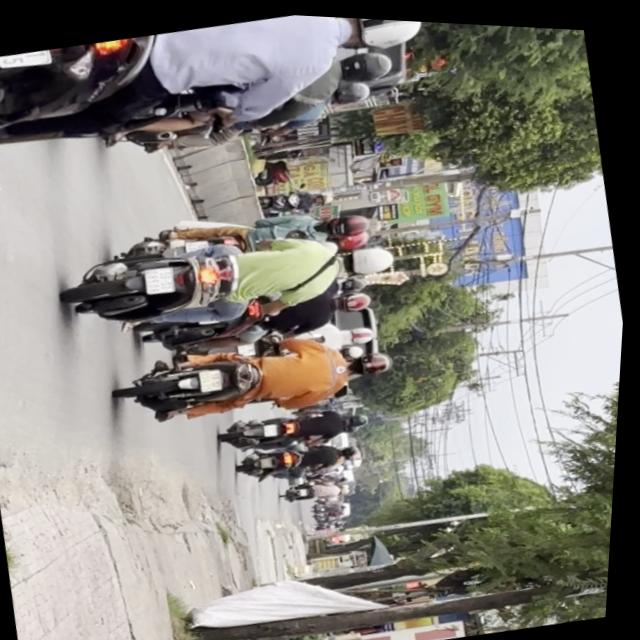helmet: (332, 14, 427, 54), (336, 39, 399, 83), (343, 236, 401, 275), (325, 205, 376, 237), (351, 342, 400, 374), (333, 72, 375, 103), (339, 283, 379, 309), (335, 223, 376, 247)
licenseplate: (0, 0, 445, 200), (59, 198, 413, 355), (115, 308, 406, 442), (87, 55, 385, 174), (108, 177, 387, 285), (141, 266, 384, 366)
nohelmet: (0, 46, 54, 70), (148, 263, 181, 293), (203, 365, 228, 389)
